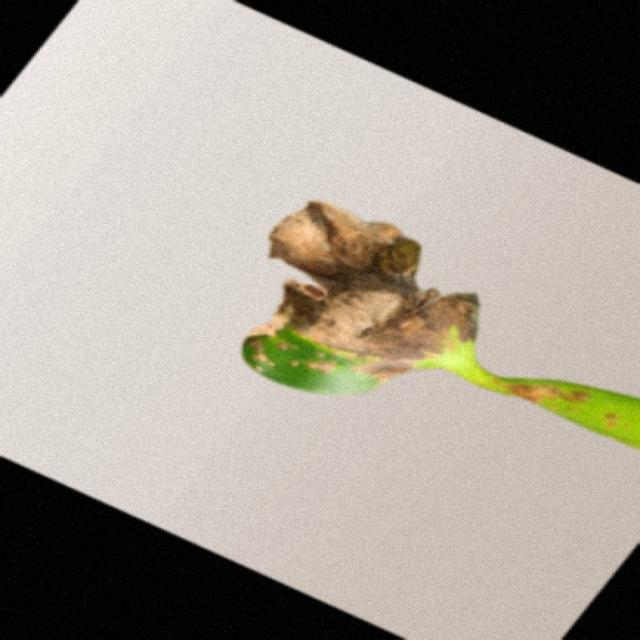daun berpenyakit karat: (244, 201, 640, 447)
